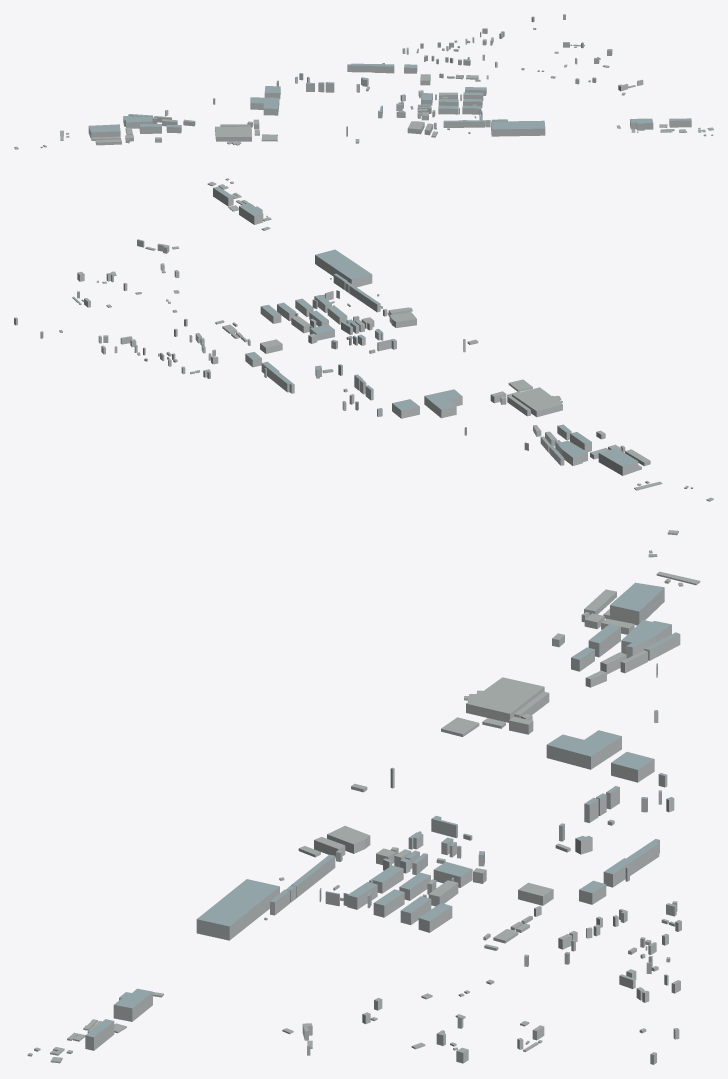
Rendered from far.glb.
3 views of the same model, one above another, from view 1: azimuth 30°, elevation 25°; view 2: azimuth 150°, elevation 25°; view 3: azimuth 270°, elevation 25° (orthographic). The views are drawn at different scales.
Bounding box in the file's own units: 1896 × 32 × 1010.
